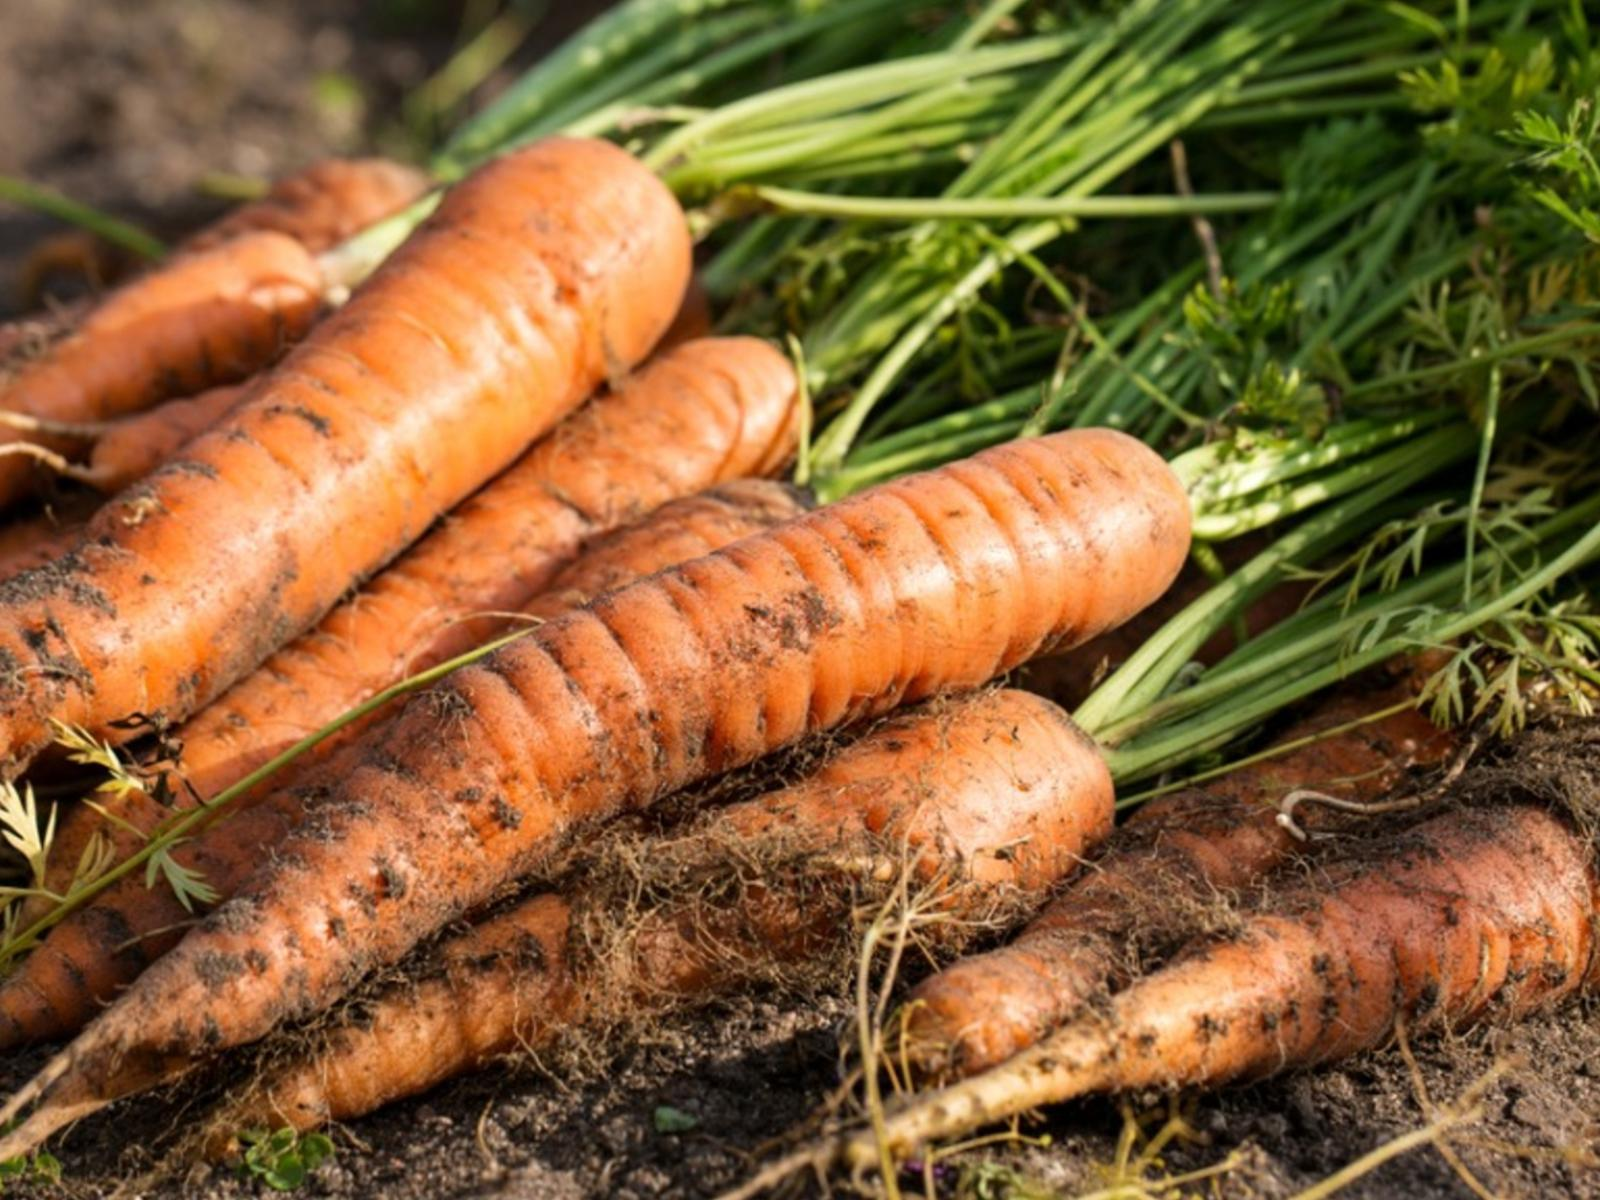carrot: (0, 154, 1600, 1162), (311, 338, 1546, 1100)
